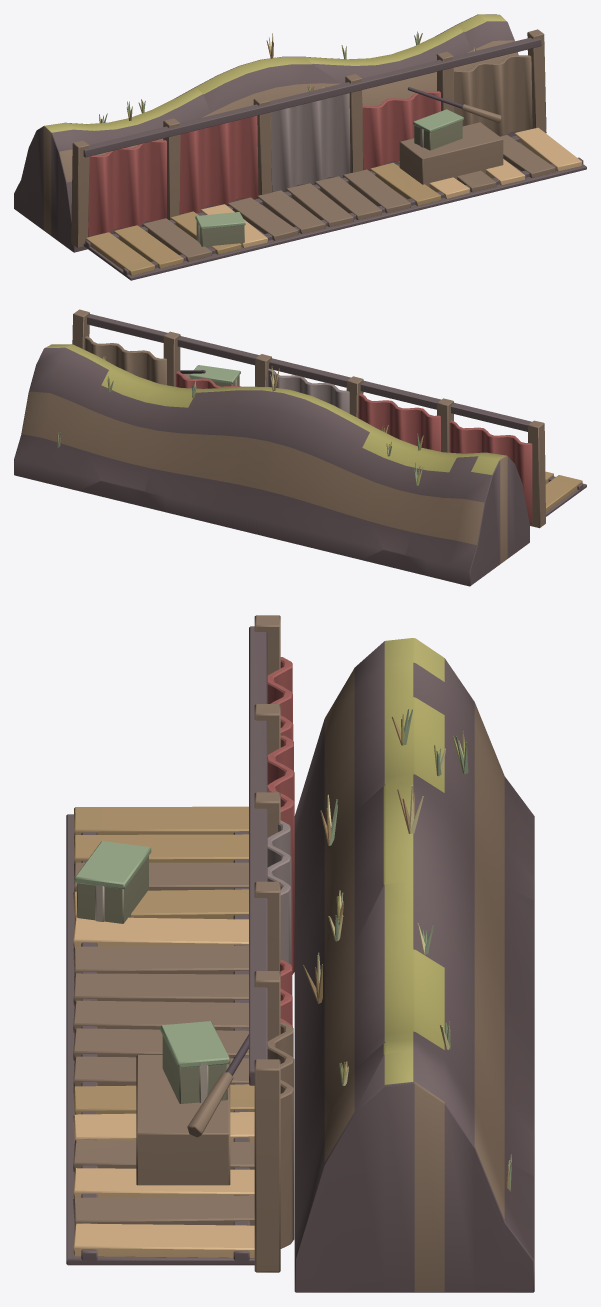
Rendered from trench_parapet_v1.glb.
The picture shows the model from 3 angles, top to bottom: view 1: azimuth 30°, elevation 25°; view 2: azimuth 150°, elevation 25°; view 3: azimuth 270°, elevation 25°; orthographic projection. The views are drawn at different scales.
Visible parts, largest first — view 1: Body; view 2: Body; view 3: Body.
Boxes of the visible parts, x1=… form: Body: x1=14, y1=14, x2=586, y2=280; Body: x1=14, y1=309, x2=586, y2=586; Body: x1=66, y1=615, x2=534, y2=1292.
Bounding box in the file's own units: 0.9255 × 0.2686 × 0.4.
